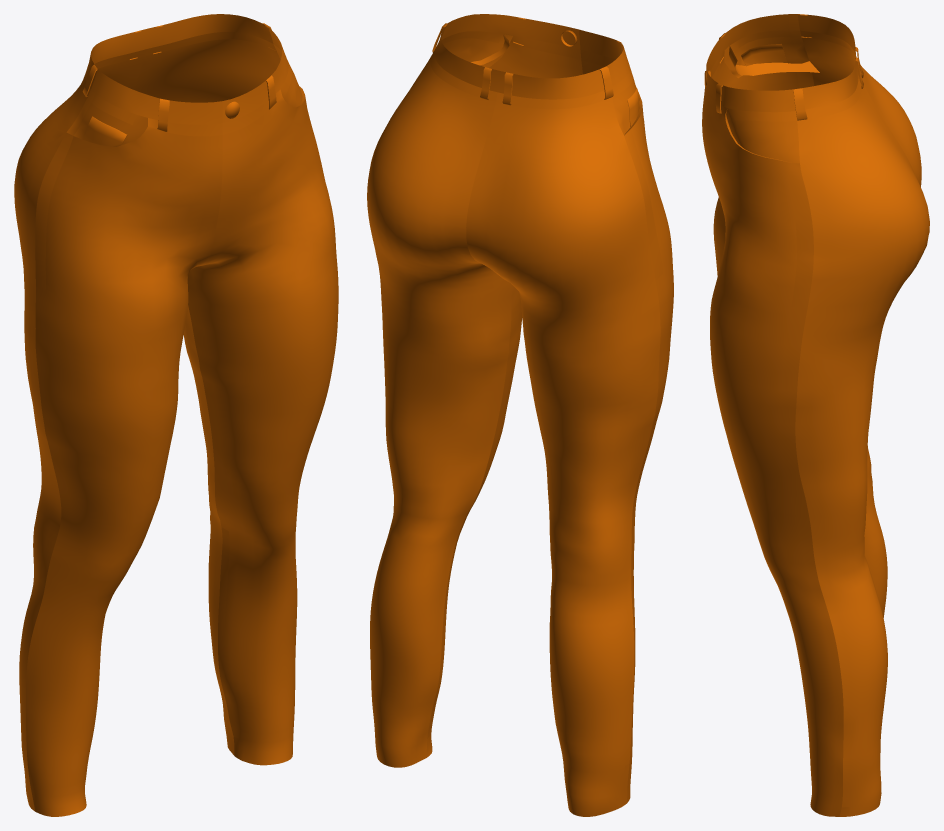
The model's file is calçafem11glb.glb.
3 renders of one model, left to right at view 1: azimuth 30°, elevation 25°; view 2: azimuth 150°, elevation 25°; view 3: azimuth 270°, elevation 25°, orthographic. The views are drawn at different scales.
Parts seen in each view (by area): view 1: hash_89A1A225.model; view 2: hash_89A1A225.model; view 3: hash_89A1A225.model.
Boxes of the visible parts, x1,y1,x2,y2 form: hash_89A1A225.model: (14, 14, 338, 816); hash_89A1A225.model: (367, 14, 673, 816); hash_89A1A225.model: (702, 14, 929, 816).
Bounding box in the file's own units: 0.4335 × 1.08 × 0.3138.
